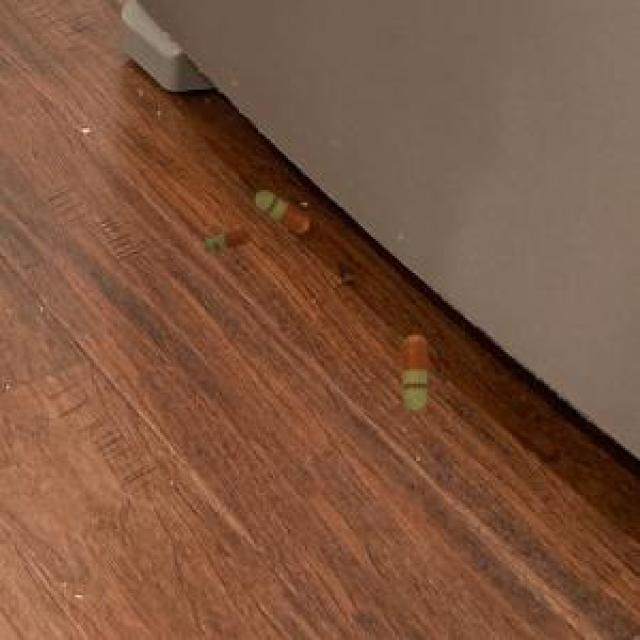Alaxan: (388, 327, 442, 415), (252, 185, 318, 242), (198, 224, 245, 253)
